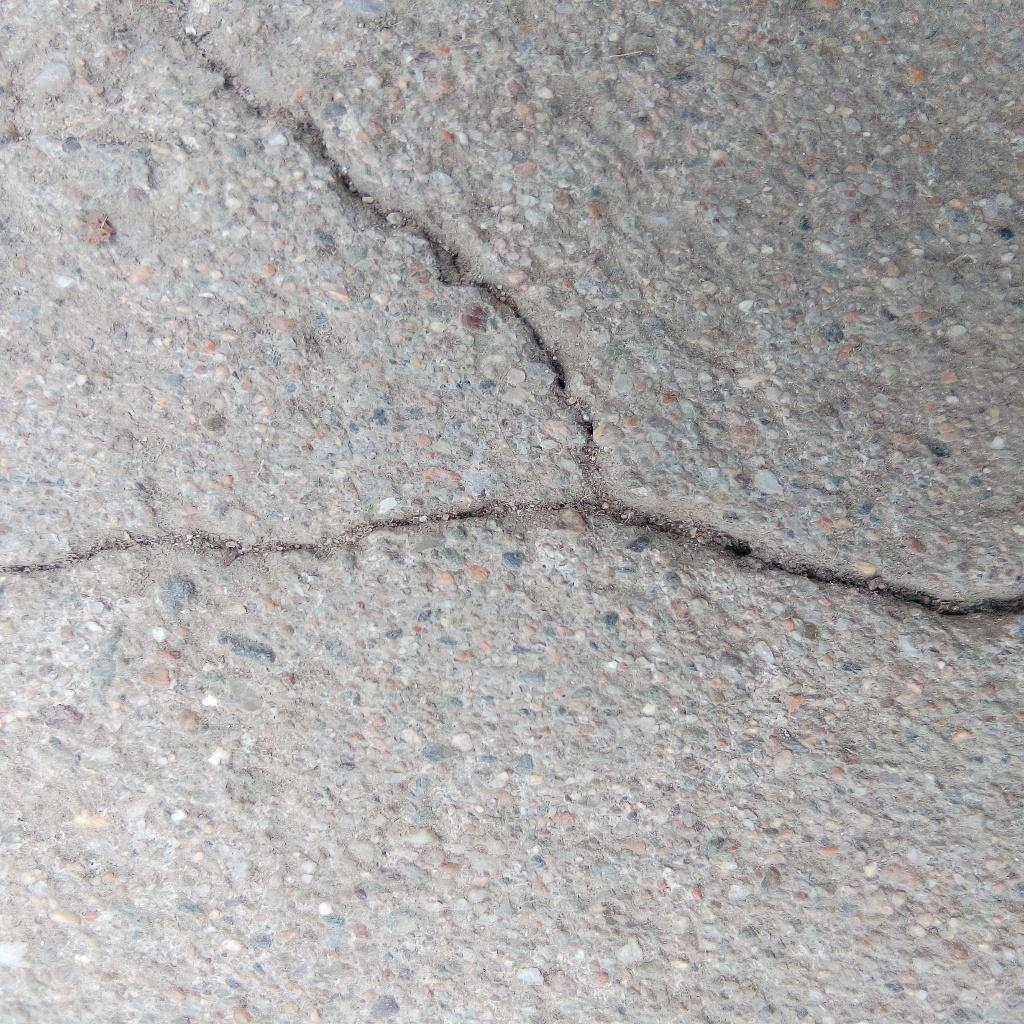Crack: (182, 29, 603, 498), (595, 498, 1024, 614), (1, 498, 594, 571)
